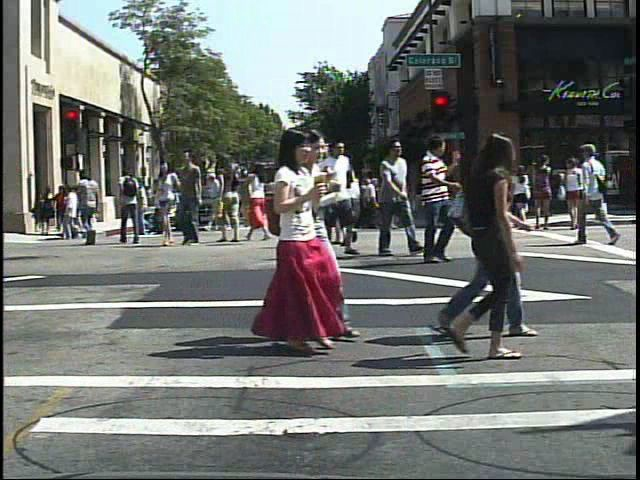person: (446, 129, 543, 364), (263, 126, 351, 356), (440, 128, 525, 341), (416, 131, 474, 265), (571, 136, 622, 249), (369, 135, 414, 262), (301, 132, 339, 269), (323, 137, 358, 257), (314, 140, 350, 249), (175, 148, 210, 249), (151, 156, 187, 249), (211, 151, 246, 243), (335, 146, 365, 249), (245, 152, 273, 245), (73, 165, 105, 246), (115, 163, 145, 245), (510, 160, 537, 234), (310, 162, 331, 231), (55, 183, 75, 234)
